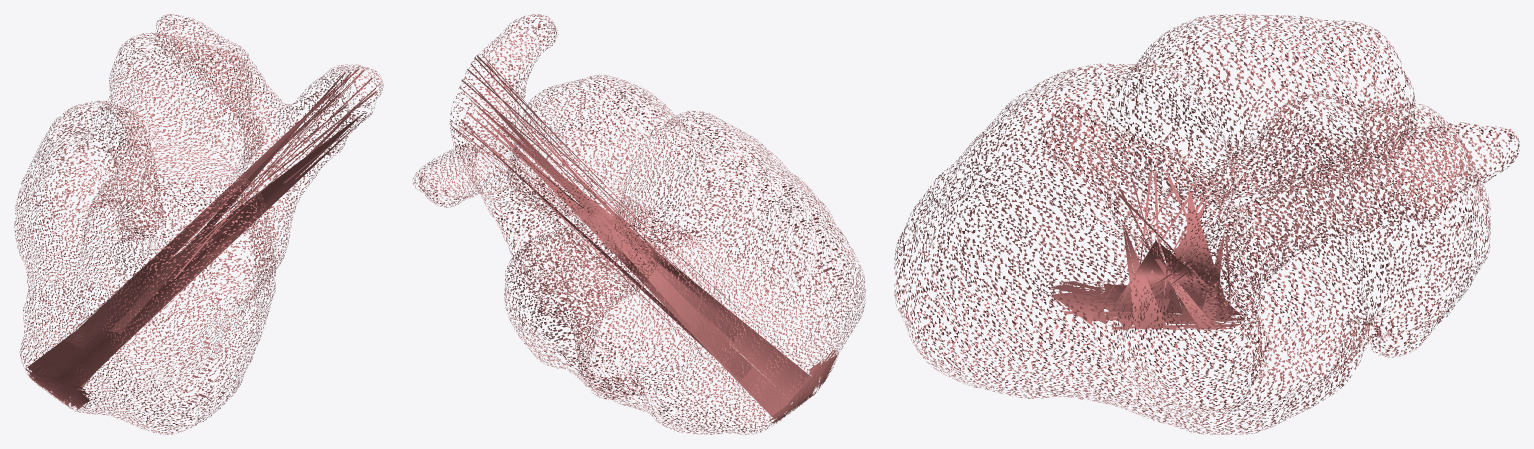
File: heart.glb
The picture shows the model from 3 angles, left to right: view 1: azimuth 30°, elevation 25°; view 2: azimuth 150°, elevation 25°; view 3: azimuth 270°, elevation 25°; orthographic projection. The views are drawn at different scales.
Size of the model in its own units: 129 by 118 by 148.
